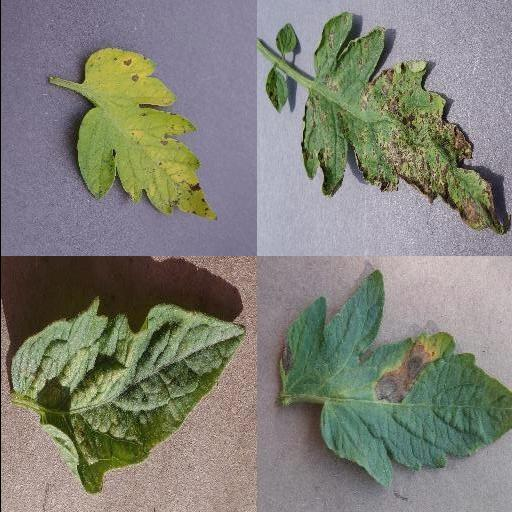Early Blight: (276, 271, 512, 490)
Septoria: (302, 16, 502, 236), (75, 49, 217, 222)
Spider Mites: (8, 298, 250, 496)
